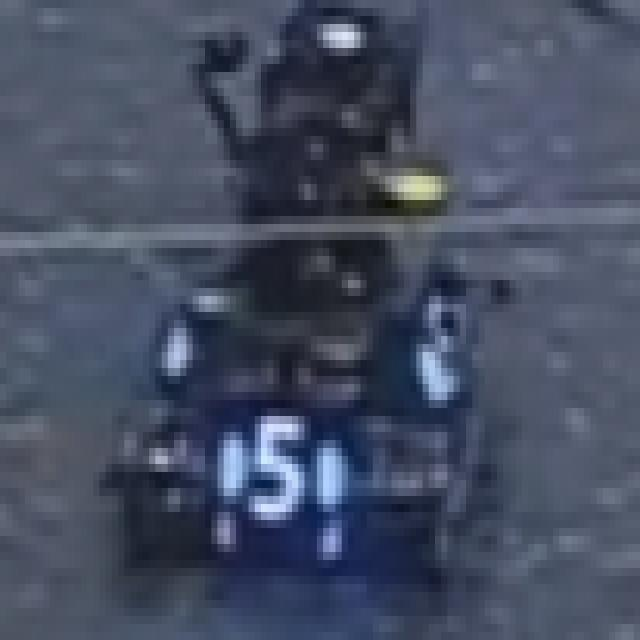B5: (224, 416, 342, 520)
